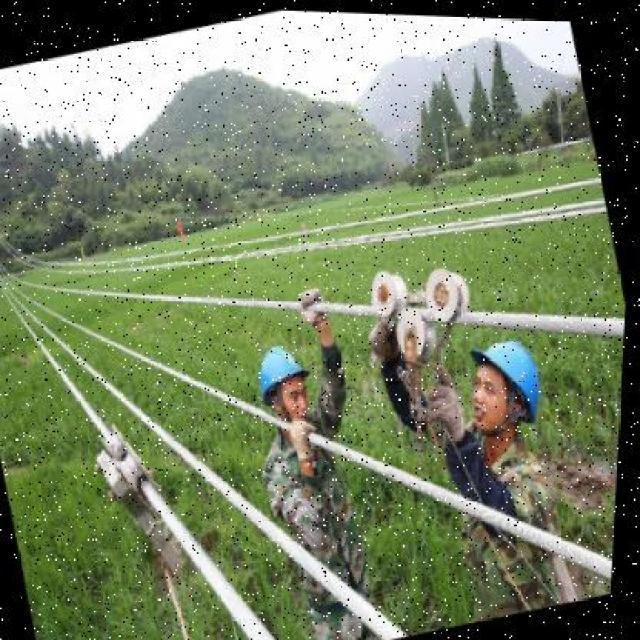helmet: (477, 325, 559, 427), (251, 340, 323, 416)
